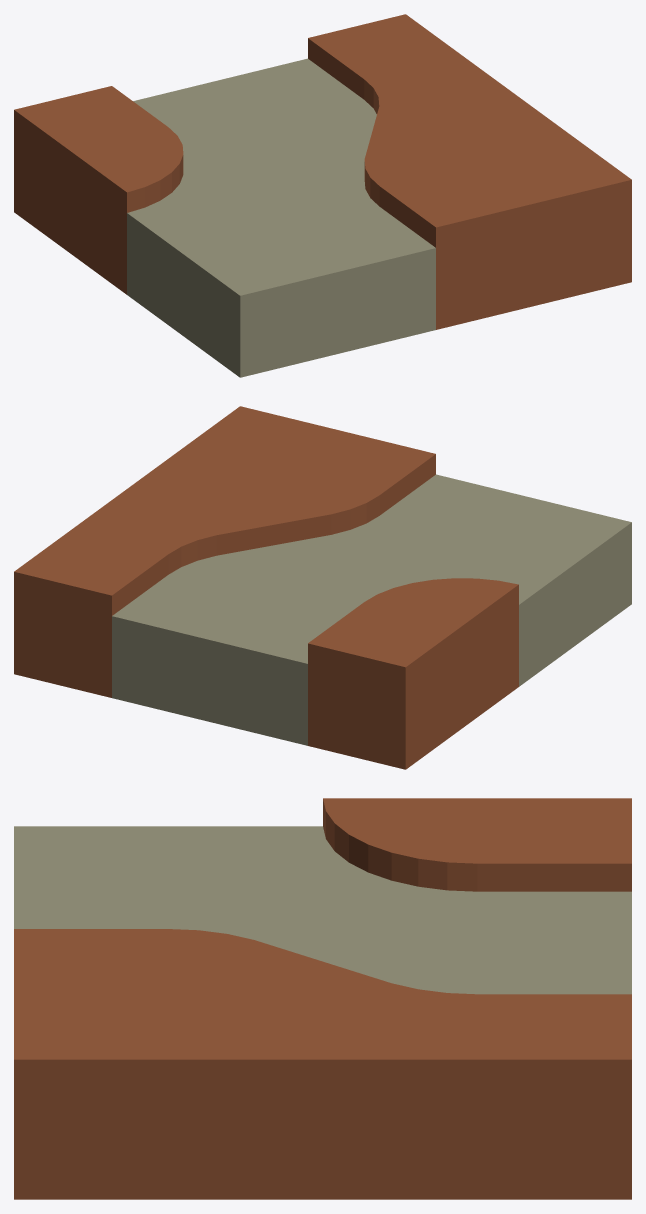
Rendered from Floor-Outdoor-4x4x1-Path-Narrow-To-Wide-Left.FBX.
The picture shows the model from 3 angles, top to bottom: view 1: azimuth 30°, elevation 25°; view 2: azimuth 150°, elevation 25°; view 3: azimuth 270°, elevation 25°; orthographic projection. The views are drawn at different scales.
Visible parts, largest first — view 1: Floor-Outdoor-4x4x1-Path-Narrow-To-Wide-Left; view 2: Floor-Outdoor-4x4x1-Path-Narrow-To-Wide-Left; view 3: Floor-Outdoor-4x4x1-Path-Narrow-To-Wide-Left.
Boxes of the visible parts, left/top/right/bottom form: Floor-Outdoor-4x4x1-Path-Narrow-To-Wide-Left: left=14, top=14, right=631, bottom=377; Floor-Outdoor-4x4x1-Path-Narrow-To-Wide-Left: left=14, top=406, right=631, bottom=769; Floor-Outdoor-4x4x1-Path-Narrow-To-Wide-Left: left=14, top=798, right=631, bottom=1199.
Size of the model in its own units: 40 by 40 by 10.
